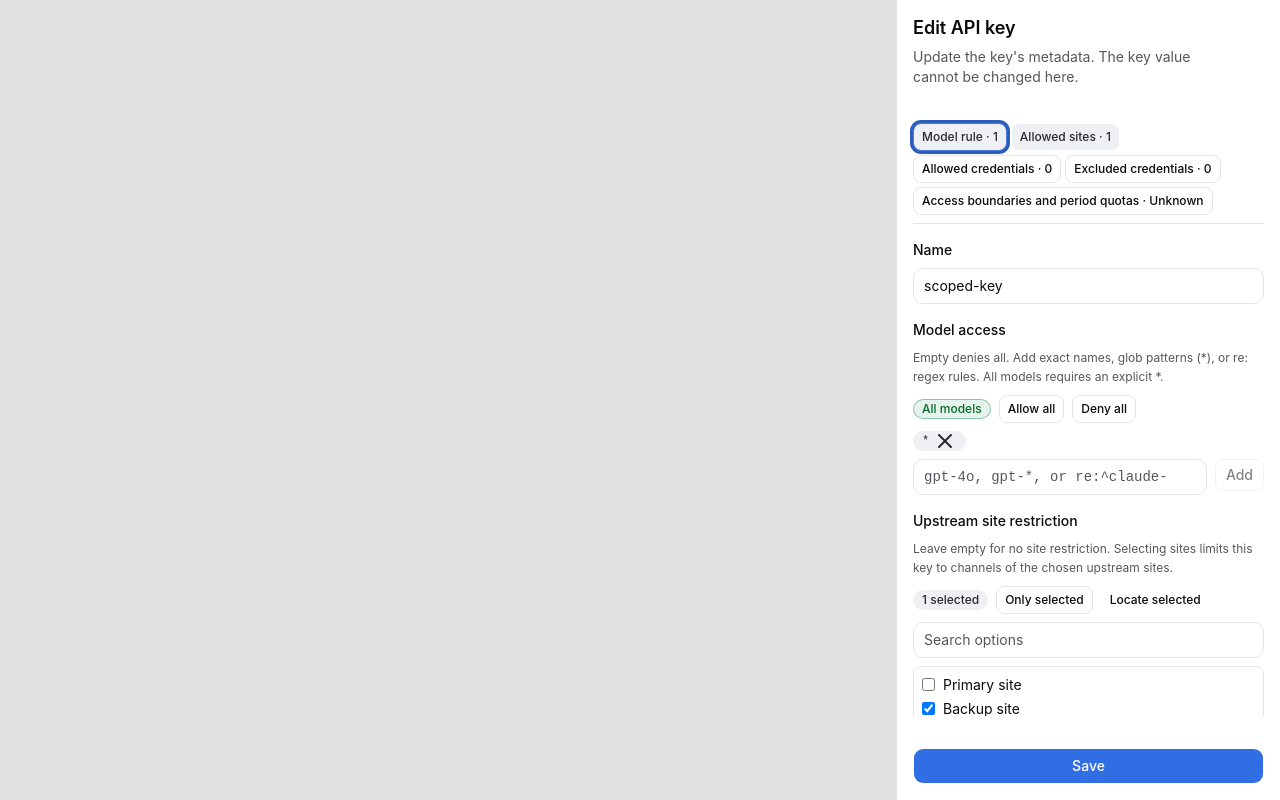
Test: downstream key site restriction (#1026) › shows dimension counts and locates their controls while preserving unreadable source policy
The width and height of the screenshot is (1280, 800).
Check: the checkbox labelled "Backup site" is checked, box [922,702,935,715]
Check: the button "Access boundaries and period quotas · Unknown" is shown, box [913,187,1213,215]
Click the button "Allowed sites · 1" at x=1065, y=137, box [1011,123,1120,151]
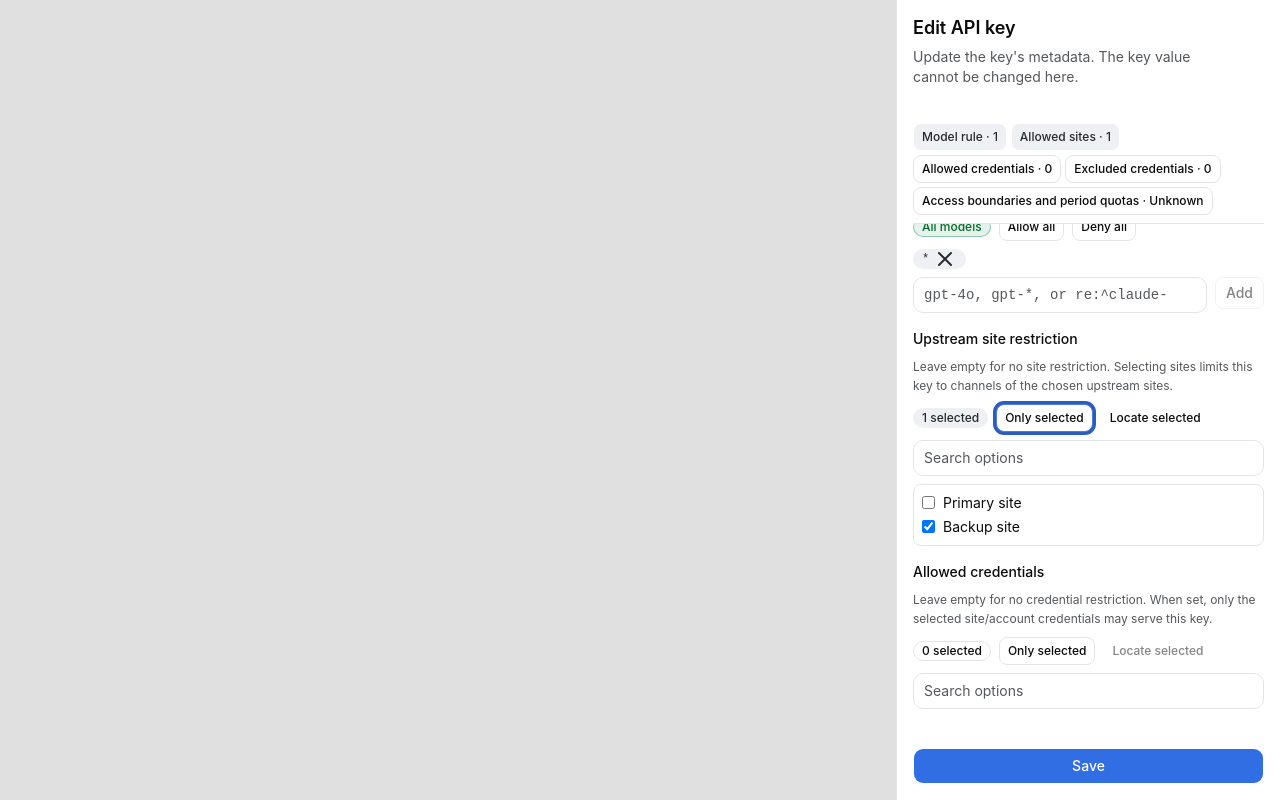
Click the checkbox labelled "Primary site" at x=928, y=503, box [922,496,935,509]
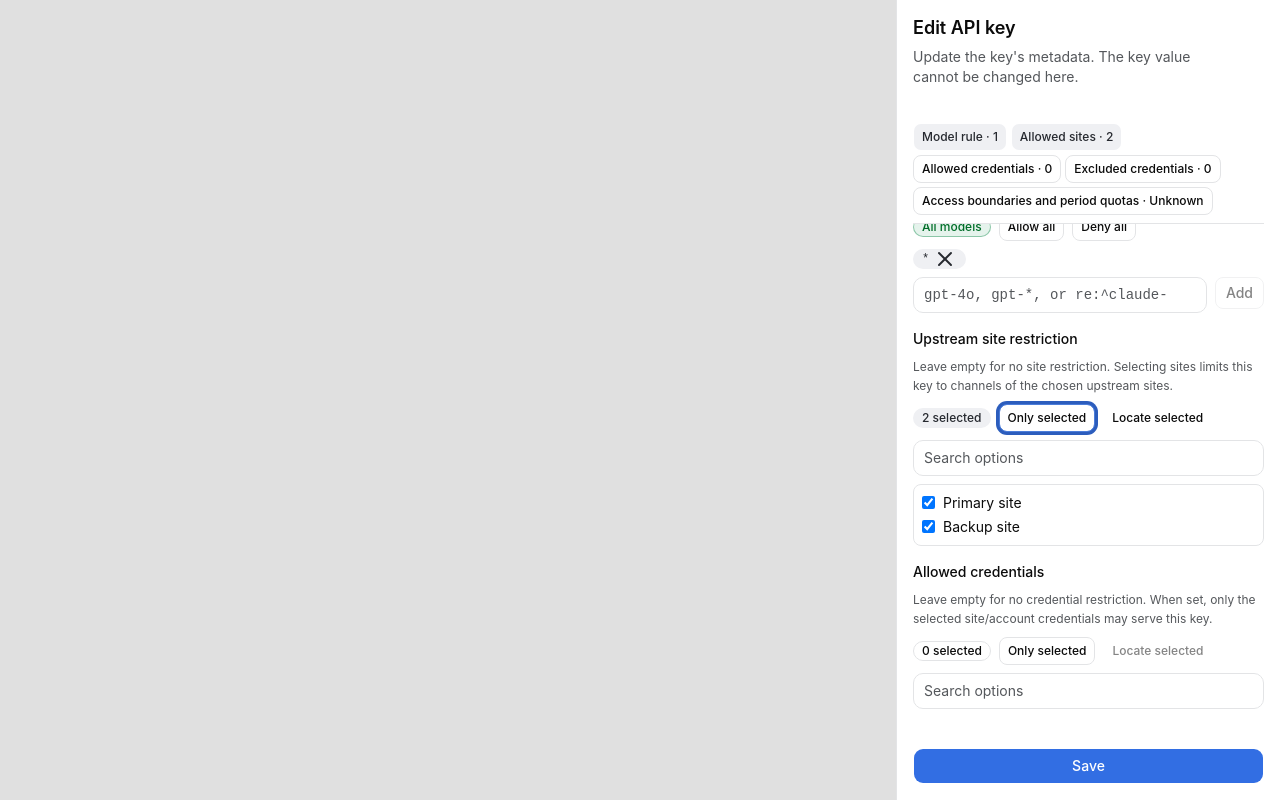
Check: the button "Allowed sites · 2" is shown, box [1011,123,1122,151]
